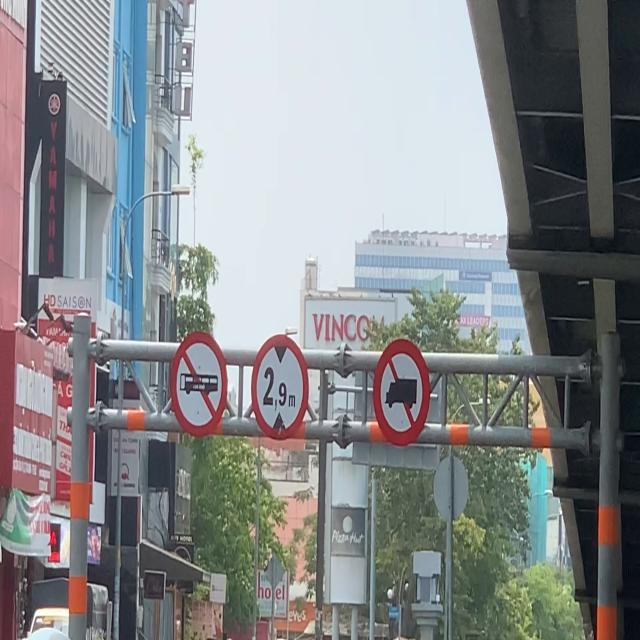Cam con lai: (373, 338, 431, 448)
Chieu cao toi da: (251, 334, 309, 442)
